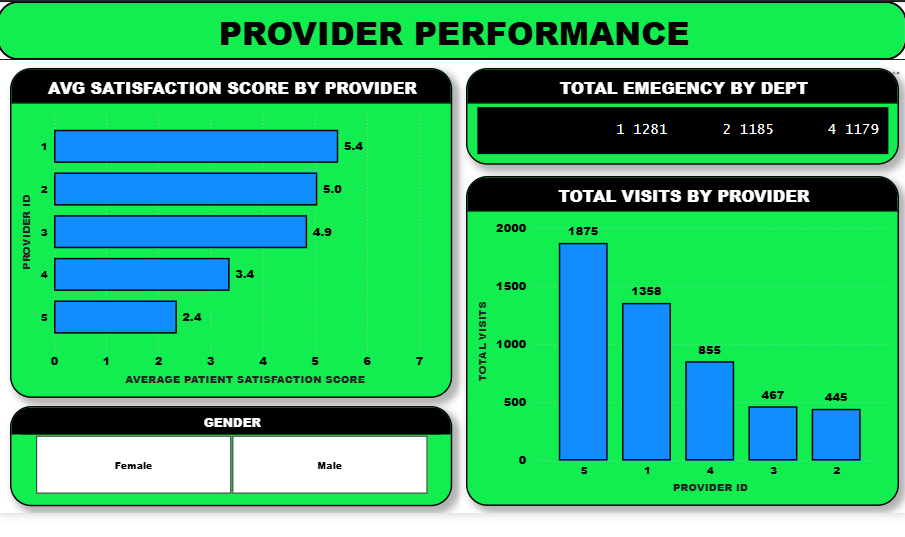

The page's visual inventory and layout, read from the dashboard file:
{"tool":"powerbi","page":{"name":" Provider Performance","canvas":[1280,720],"ordinal":1},"visuals":[{"type":"textbox","title":"PROVIDER PERFORMANCE","box":[0,0,1280,83],"z":0},{"type":"clusteredBarChart","title":"AVG SATISFACTION SCORE BY PROVIDER","fields":{"Category":["providers.Provider ID"],"Y":["XMEASURE.XAVARAGE PATIENT SATISFACTION SCORE"]},"box":[18.3,94.2,621.7,464.2],"z":1000},{"type":"clusteredColumnChart","title":"TOTAL VISITS BY PROVIDER","fields":{"Category":["providers.Provider ID"],"Y":["XMEASURE.XTOTAL VISITS"]},"box":[659.7,246.2,609.1,464.2],"z":2000},{"type":"slicer","title":"GENDER","fields":{"Values":["patients.Gender"]},"box":[18.3,569.7,621.7,140.7],"z":3000},{"type":"ScrollingTextVisual1448795304508","title":"TOTAL EMEGENCY BY DEPT","fields":{"Category":["visits.Department ID"],"Measure Absolute":["CountNonNull(visits.Emergency Visit)"]},"box":[659.7,94.2,609.1,136.4],"z":4000}]}

Visuals, with their boxes on the page's 1280x720 design canvas (x1, y1, x2, y2). These are canvas units, not pixel positions in the 905x537 screenshot, which may show the page scaled, cropped or inside an application window:
"PROVIDER PERFORMANCE" textbox: Rect(0, 0, 1280, 83)
"AVG SATISFACTION SCORE BY PROVIDER" clusteredBarChart: Rect(18, 94, 640, 558)
"TOTAL VISITS BY PROVIDER" clusteredColumnChart: Rect(660, 246, 1269, 710)
"GENDER" slicer: Rect(18, 570, 640, 710)
"TOTAL EMEGENCY BY DEPT" ScrollingTextVisual1448795304508: Rect(660, 94, 1269, 231)
